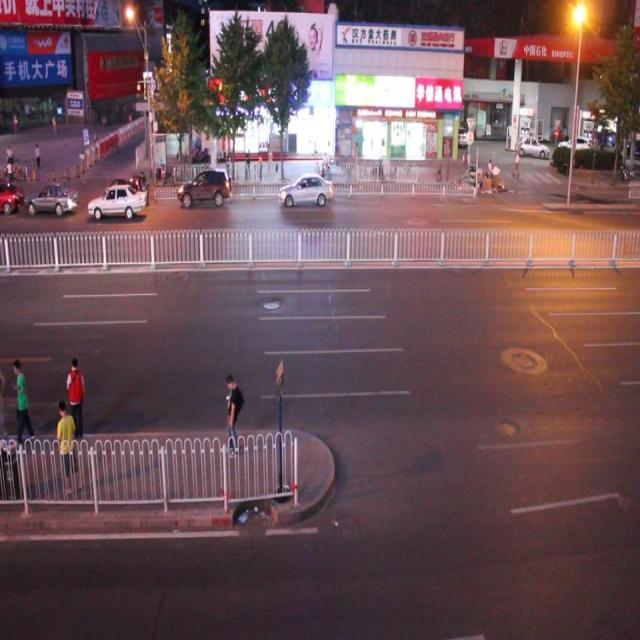car: (25, 178, 79, 220), (177, 165, 230, 207), (88, 180, 145, 218), (279, 171, 332, 207), (101, 180, 145, 223)
